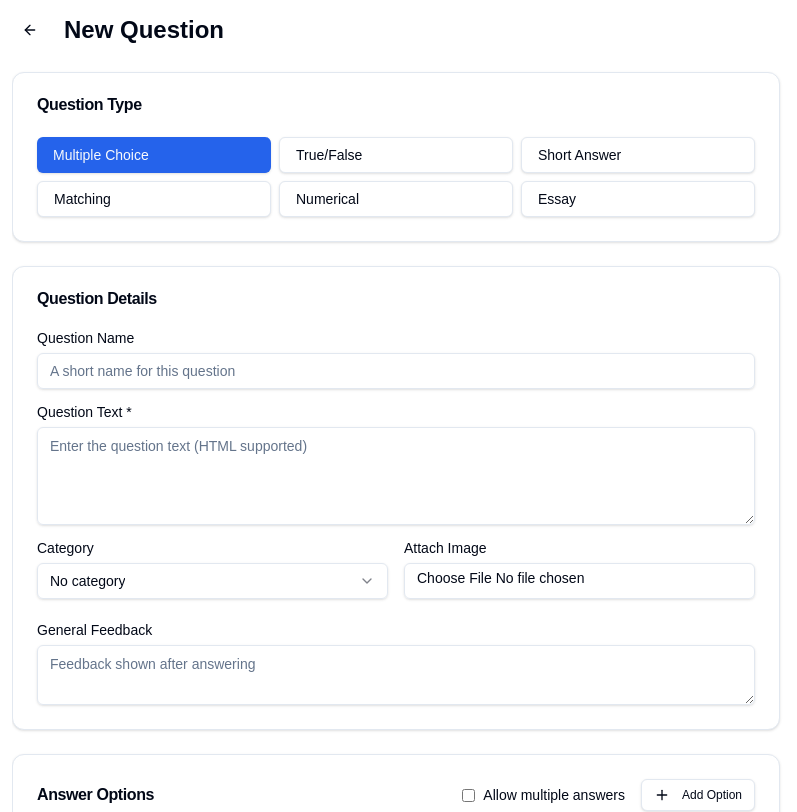
Test: QuestionForm › should switch to Numerical view
Click the button "Numerical". click: click(396, 199)
box: [279,181,513,217]
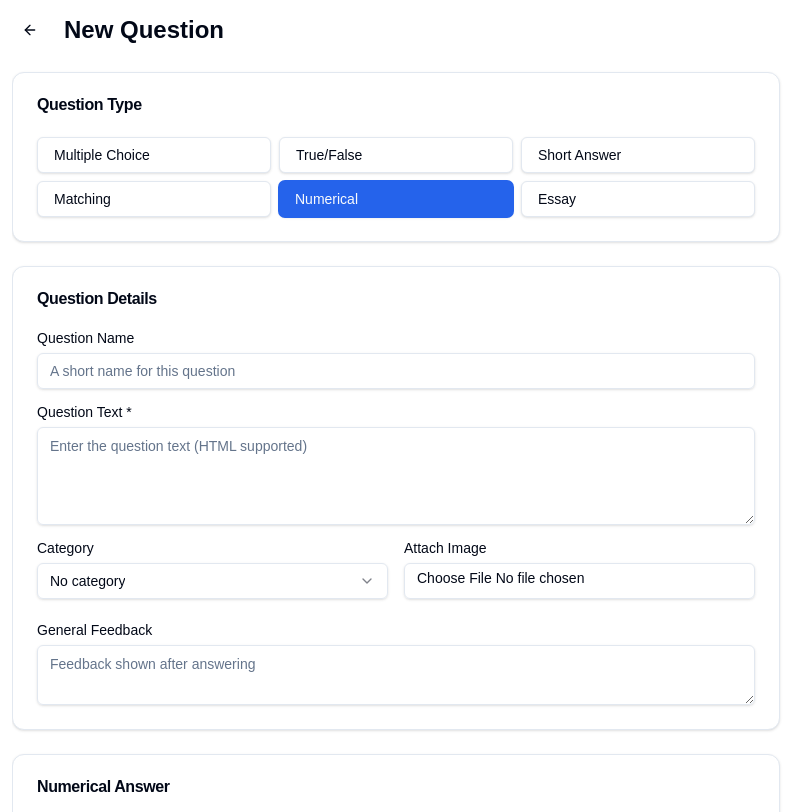
Result: the text "Numerical Answer" is shown at [37,778,170,795]
